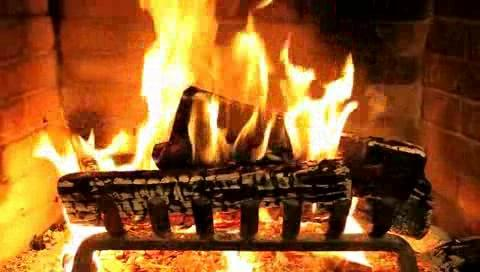fire: (126, 1, 359, 161)
